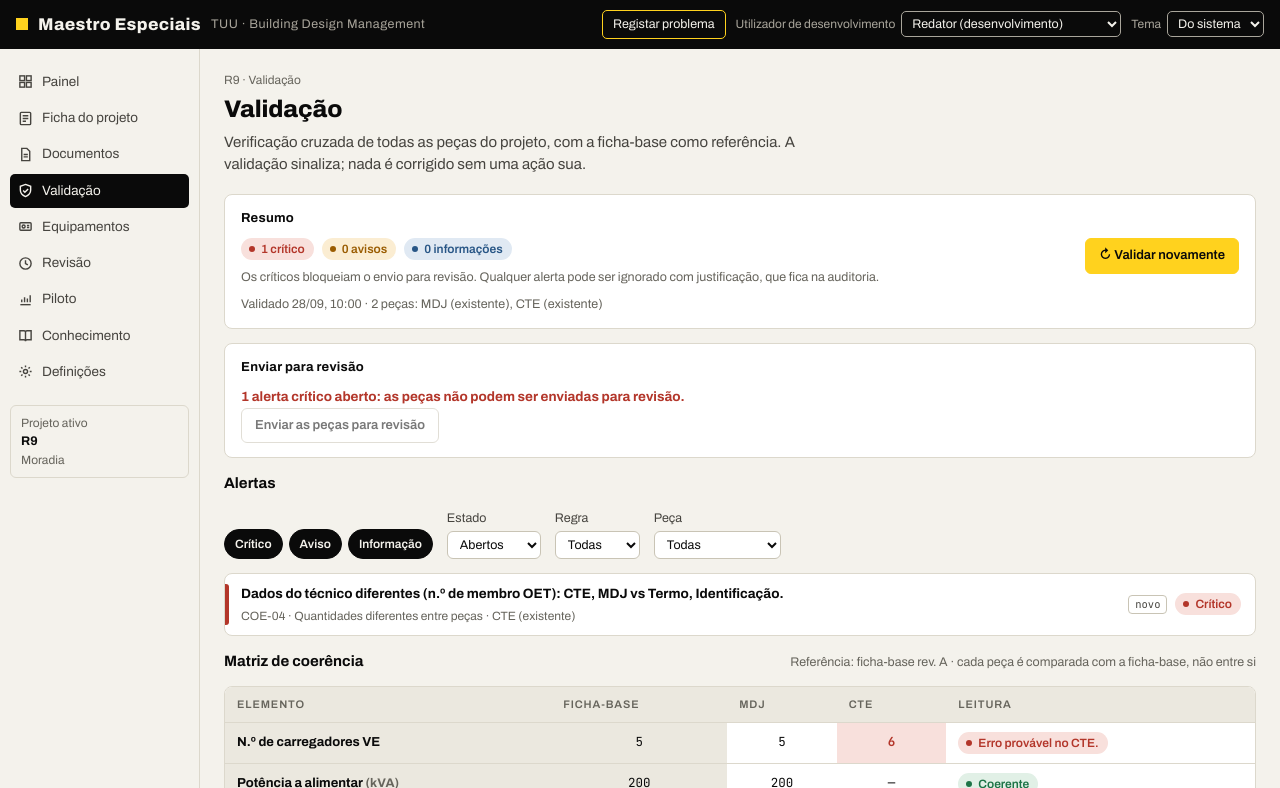
it: validation (screen E) › never shows personal values, only that they differ
This screenshot has width=1280, height=788.
Click the text "Dados do técnico diferentes" at x=512, y=594, box [241,586,784,601]
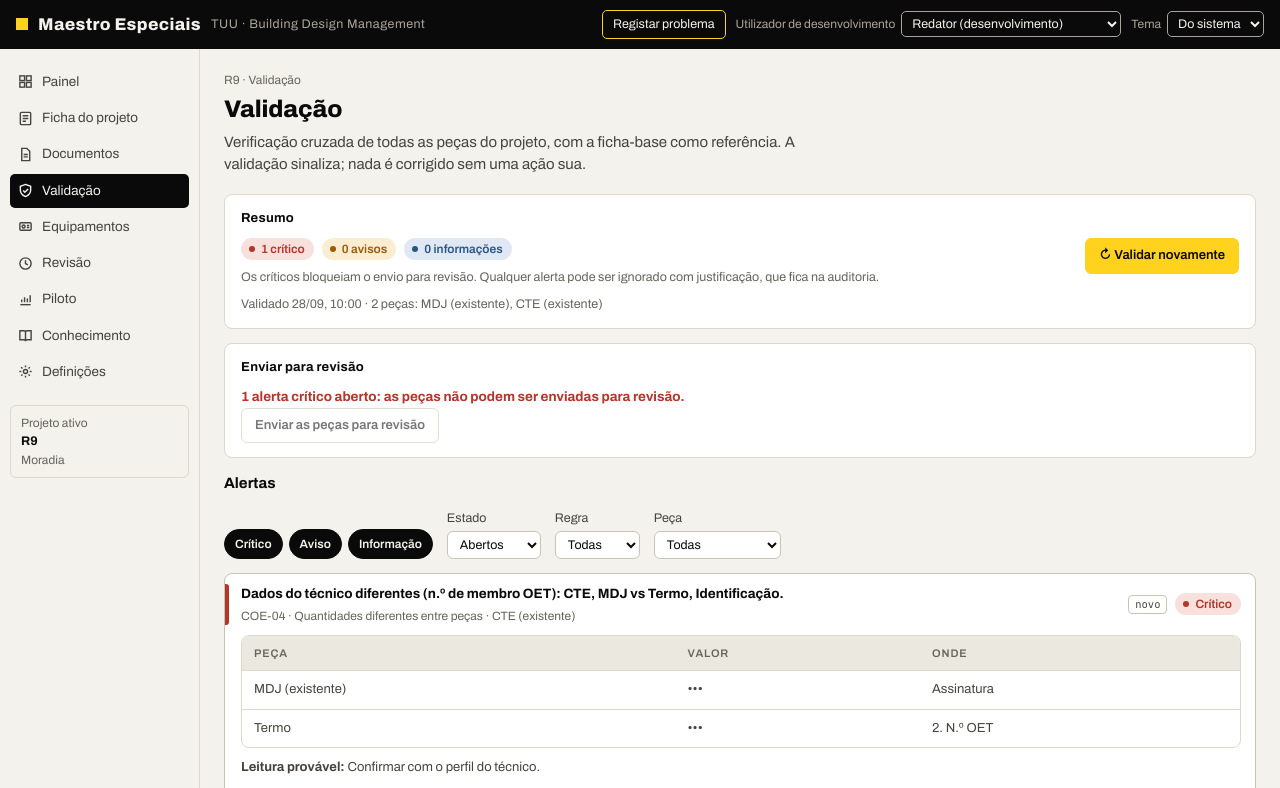
Result: the number of elements named "Dado pessoal mascarado" is 2 at [688,682,703,696]; [688,720,703,734]
Result: the text "Confirmar com o perfil do técnico." is shown at [347,760,540,774]
